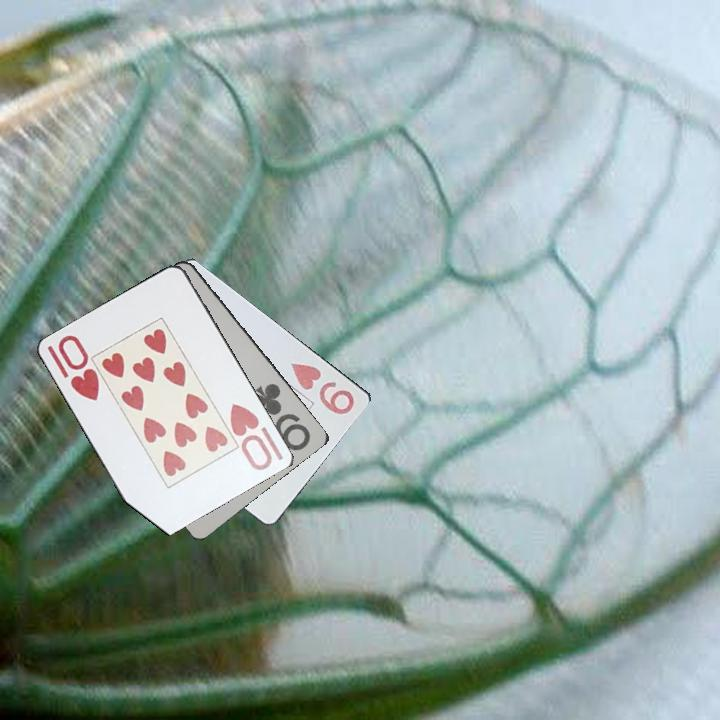9c: (248, 380, 314, 454)
9h: (287, 356, 358, 418)
Th: (44, 331, 103, 404), (227, 400, 276, 474)
